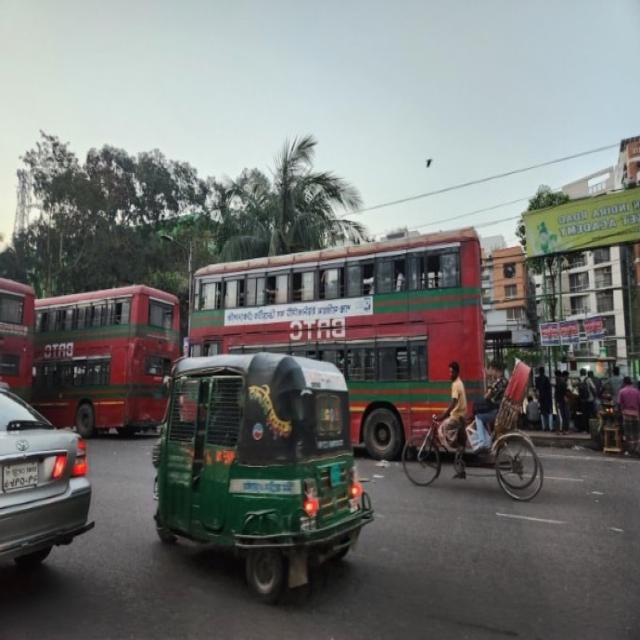CNG: (152, 341, 371, 603)
Double decker: (37, 287, 182, 431)
Rickshaw: (402, 358, 544, 507)
